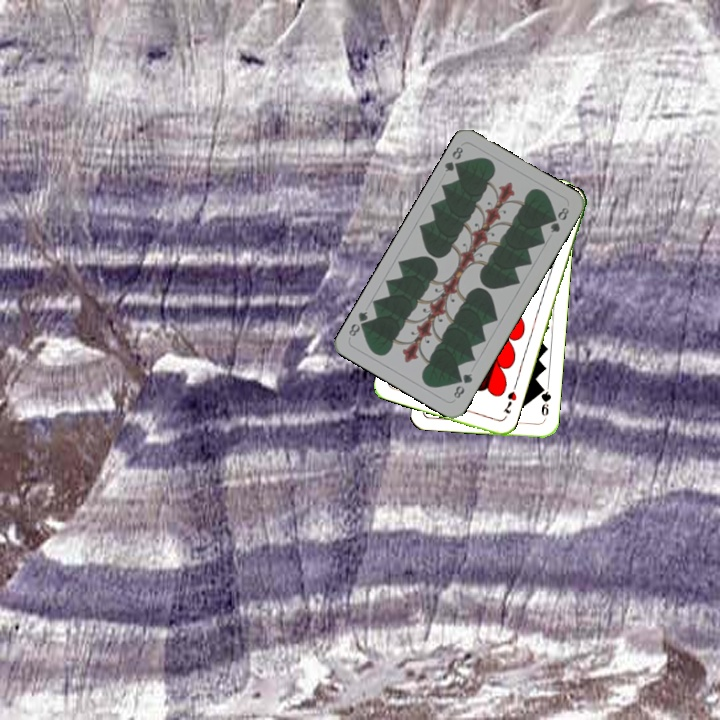G8: (440, 142, 466, 175), (449, 369, 475, 401)
G9: (537, 382, 554, 418)
H7: (499, 387, 519, 416)
